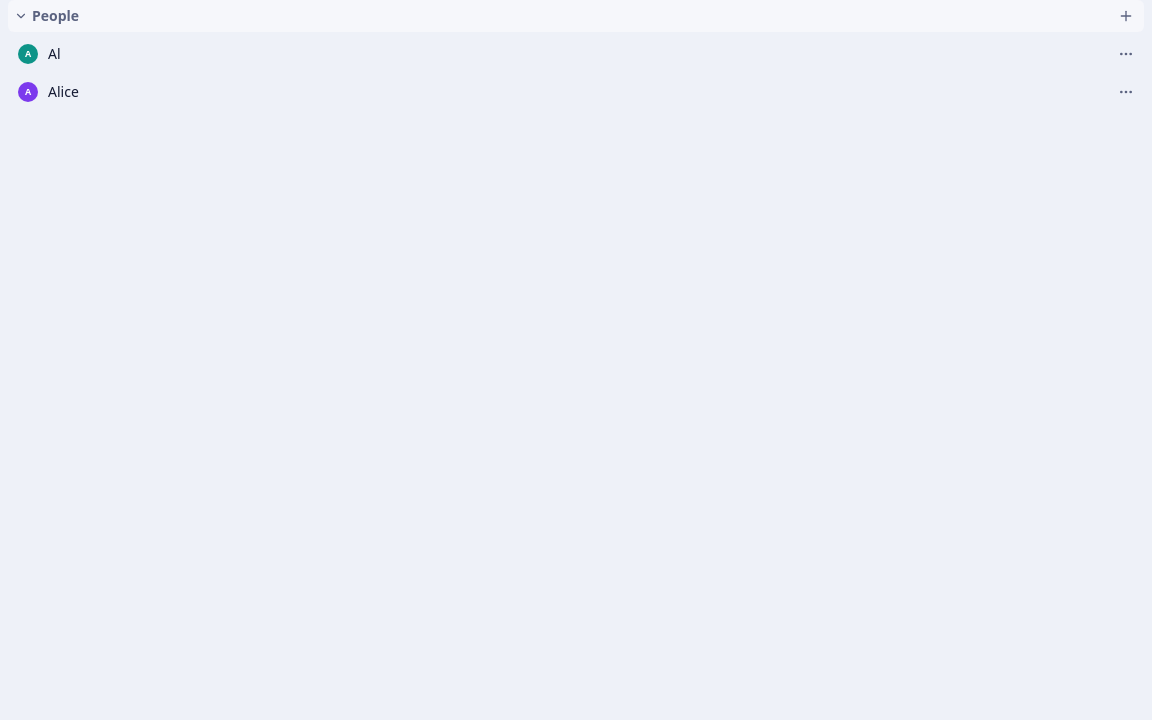
SidebarPeople › adds a Person from the section's + button
Click the button named "Add a person".
click(1126, 16)  # box [1112,2,1140,30]
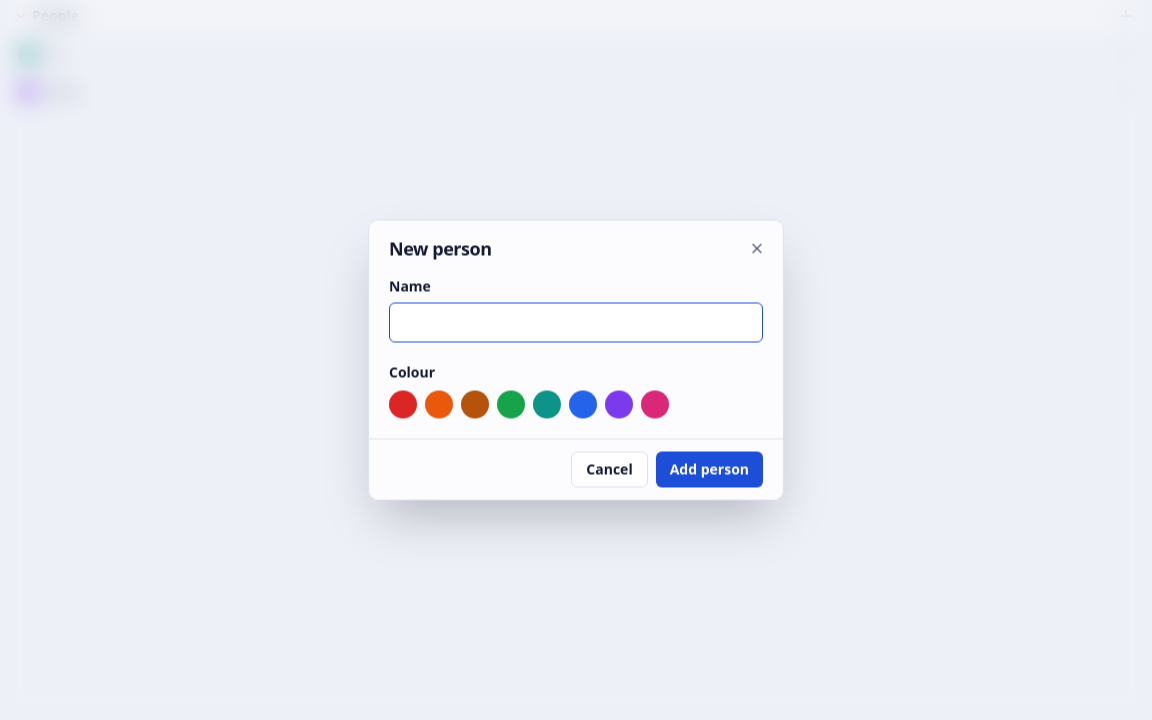
Type "Priya" into the field labelled "Name".
click(576, 322); type("Priya")  # box [389,302,763,342]
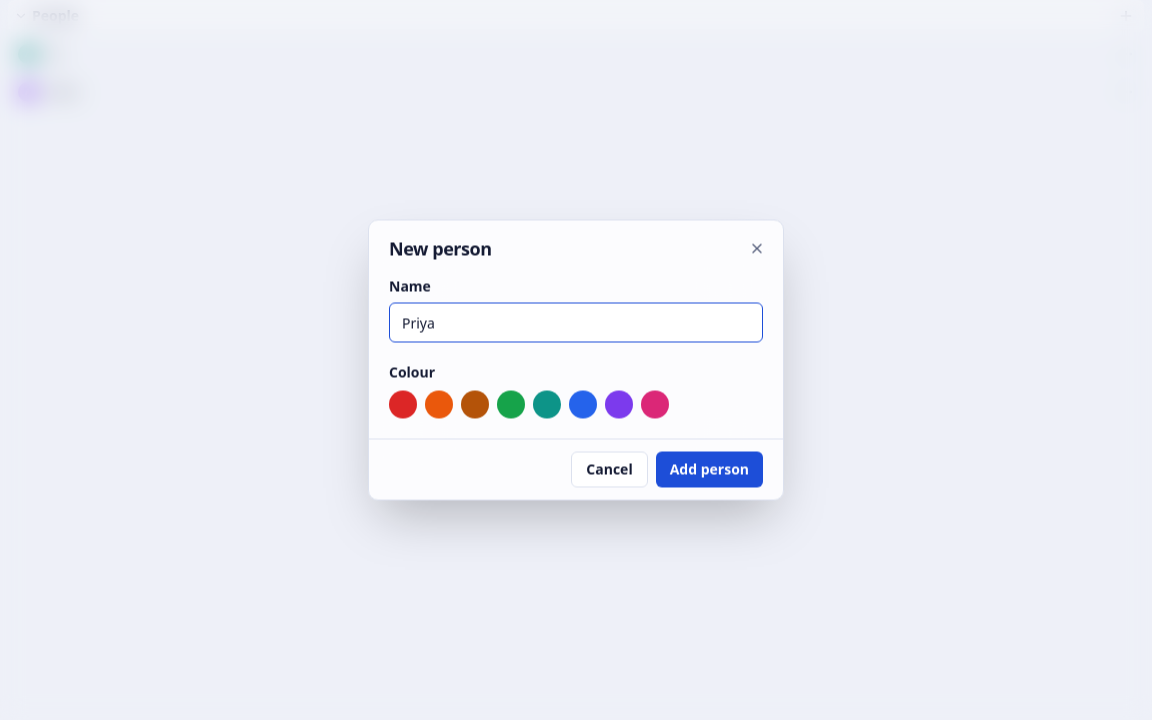
Click the radio button named "Pink".
click(655, 404)  # box [641,390,669,418]
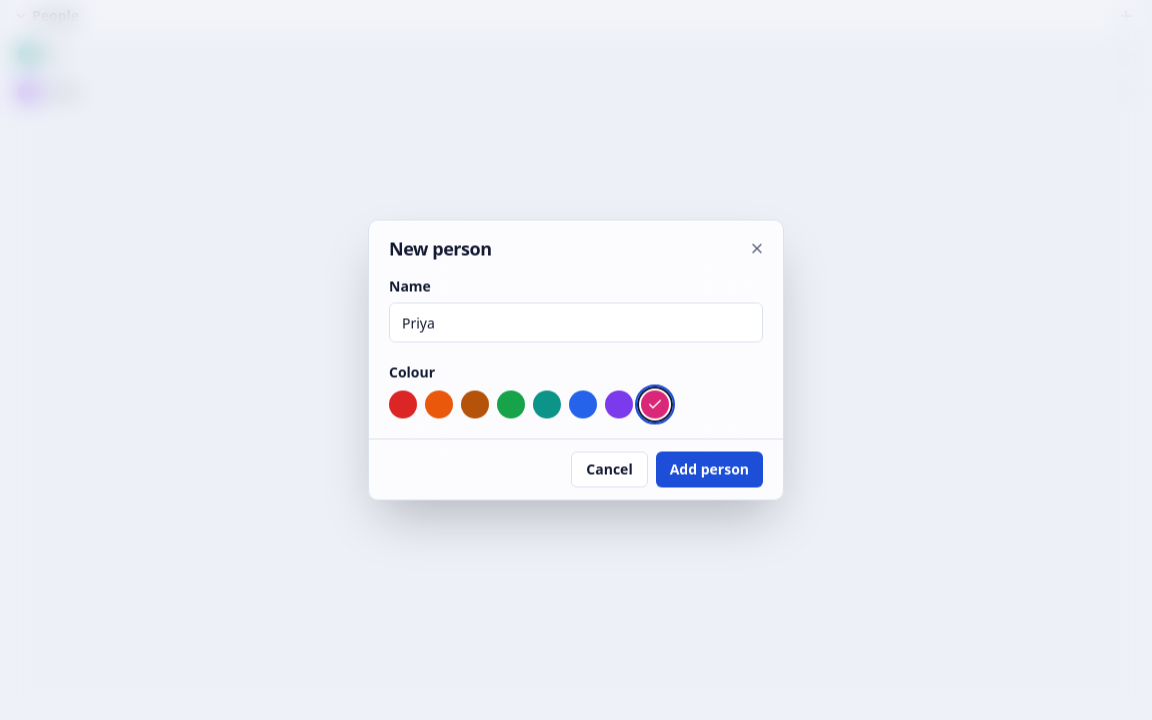
Click the button "Add person".
click(709, 470)  # box [656,452,763,488]
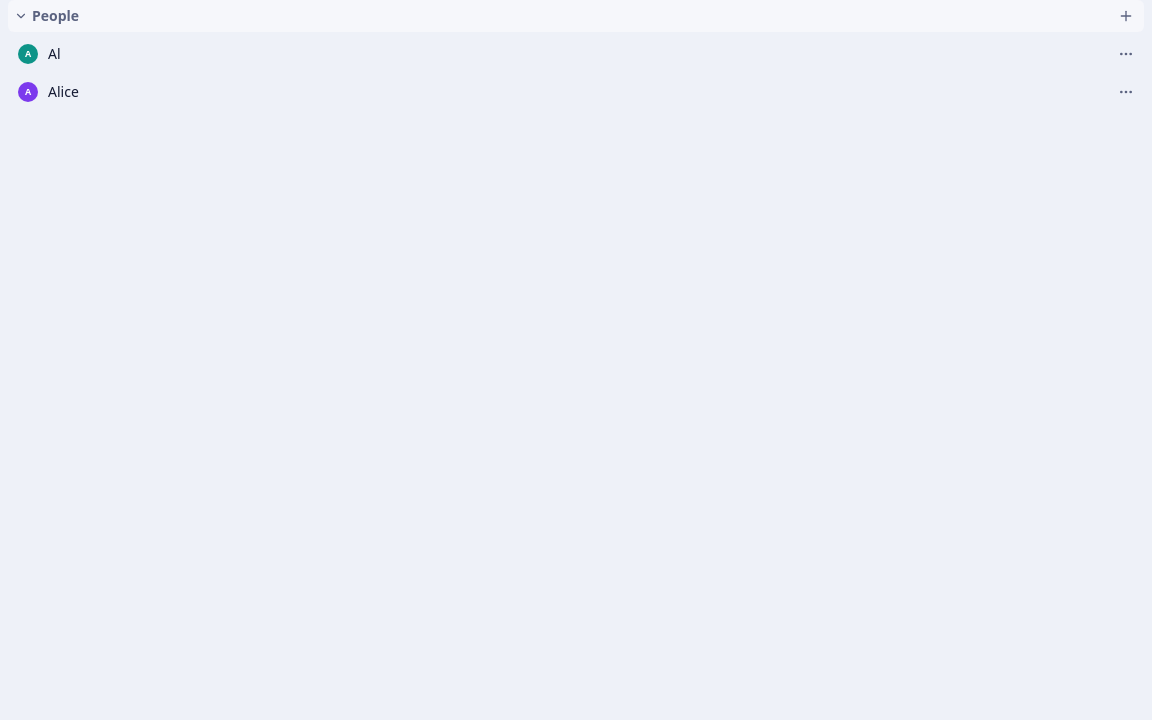
Expected: the dialog is gone
